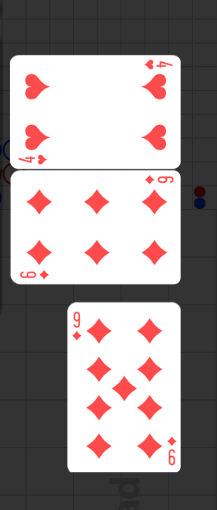4H: (17, 152, 49, 165)
9D: (165, 435, 177, 467), (70, 310, 82, 342)
